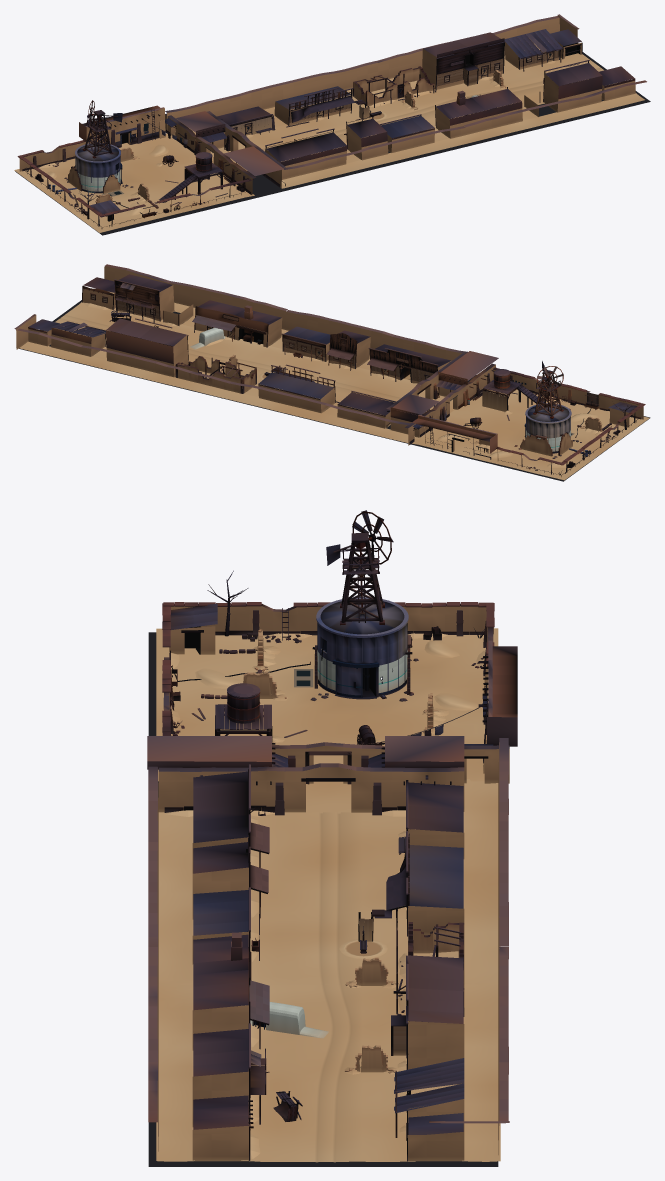
Rendered from env_plenty_street.glb.
3 renders of one model, top to bottom at view 1: azimuth 30°, elevation 25°; view 2: azimuth 150°, elevation 25°; view 3: azimuth 270°, elevation 25°, orthographic. The views are drawn at different scales.
Visible parts, largest first — view 1: chunk_st_west__m_frontier, chunk_st_east__m_frontier, chunk_st_yard__m_sand, chunk_st_yard__m_frontier, chunk_st_west__m_sand, chunk_st_east__m_sand, chunk_st_works__m_frontier, chunk_st_works__m_pellam; view 2: chunk_st_west__m_frontier, chunk_st_east__m_frontier, chunk_st_yard__m_sand, chunk_st_west__m_sand, chunk_st_yard__m_frontier, chunk_st_east__m_sand, chunk_st_works__m_frontier, chunk_st_works__m_pellam, chunk_st_east__m_pellam; view 3: chunk_st_west__m_frontier, chunk_st_west__m_sand, chunk_st_east__m_sand, chunk_st_east__m_frontier, chunk_st_yard__m_sand, chunk_st_yard__m_frontier, chunk_st_works__m_pellam, chunk_st_works__m_frontier, chunk_st_east__m_pellam.
Part boxes in pixels (x1,y1,x2,y2): chunk_st_west__m_frontier: (165, 61, 465, 194); chunk_st_east__m_frontier: (376, 14, 646, 137); chunk_st_yard__m_sand: (14, 133, 254, 235); chunk_st_yard__m_frontier: (17, 105, 251, 228); chunk_st_west__m_sand: (171, 89, 465, 198); chunk_st_east__m_sand: (387, 43, 650, 146); chunk_st_works__m_frontier: (82, 110, 223, 202); chunk_st_works__m_pellam: (75, 143, 123, 196); chunk_st_west__m_frontier: (198, 310, 498, 445); chunk_st_east__m_frontier: (14, 264, 287, 385); chunk_st_yard__m_sand: (412, 389, 650, 481); chunk_st_west__m_sand: (200, 330, 476, 444); chunk_st_yard__m_frontier: (409, 367, 645, 476); chunk_st_east__m_sand: (19, 291, 285, 392); chunk_st_works__m_frontier: (482, 369, 563, 418); chunk_st_works__m_pellam: (524, 403, 574, 453); chunk_st_east__m_pellam: (190, 327, 225, 349); chunk_st_west__m_frontier: (147, 736, 509, 983); chunk_st_west__m_sand: (158, 779, 500, 985); chunk_st_east__m_sand: (148, 983, 500, 1166); chunk_st_east__m_frontier: (148, 932, 509, 1161); chunk_st_yard__m_sand: (148, 628, 498, 778); chunk_st_yard__m_frontier: (162, 570, 517, 773); chunk_st_works__m_pellam: (294, 597, 408, 699); chunk_st_works__m_frontier: (215, 533, 384, 741); chunk_st_east__m_pellam: (250, 1002, 328, 1038).
Bounding box in the file's own units: 112 × 16.16 × 32.7.
